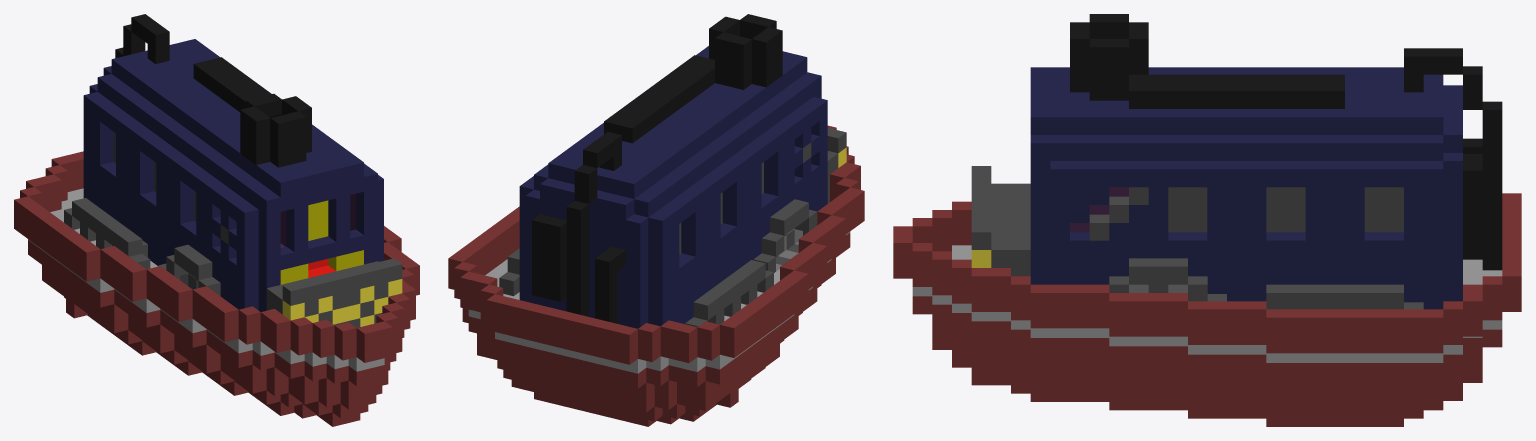
The model's file is Boss_Boss_TrenBote_fase_1.obj.
3 views of the same model, side by side, from view 1: azimuth 30°, elevation 25°; view 2: azimuth 150°, elevation 25°; view 3: azimuth 270°, elevation 25° (orthographic). The views are drawn at different scales.
Parts seen in each view (by area): view 1: Boss_Boss_TrenBote_fase_1; view 2: Boss_Boss_TrenBote_fase_1; view 3: Boss_Boss_TrenBote_fase_1.
Part boxes in pixels (<box>): Boss_Boss_TrenBote_fase_1: <box>14,14,419,426</box>; Boss_Boss_TrenBote_fase_1: <box>448,14,864,426</box>; Boss_Boss_TrenBote_fase_1: <box>893,14,1521,426</box>.
Size of the model in its own units: 20 by 19 by 32.
1 material, 1 textured.
